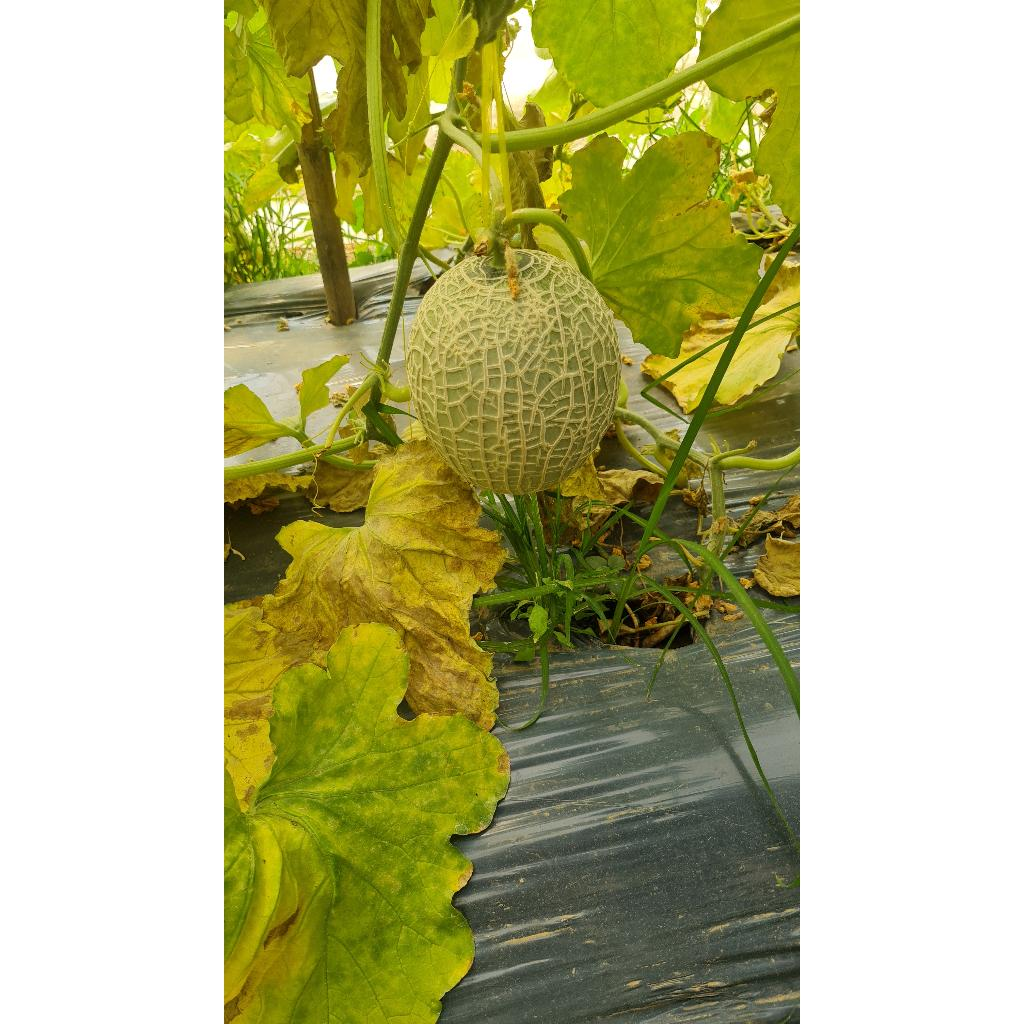melon: (406, 250, 620, 494)
